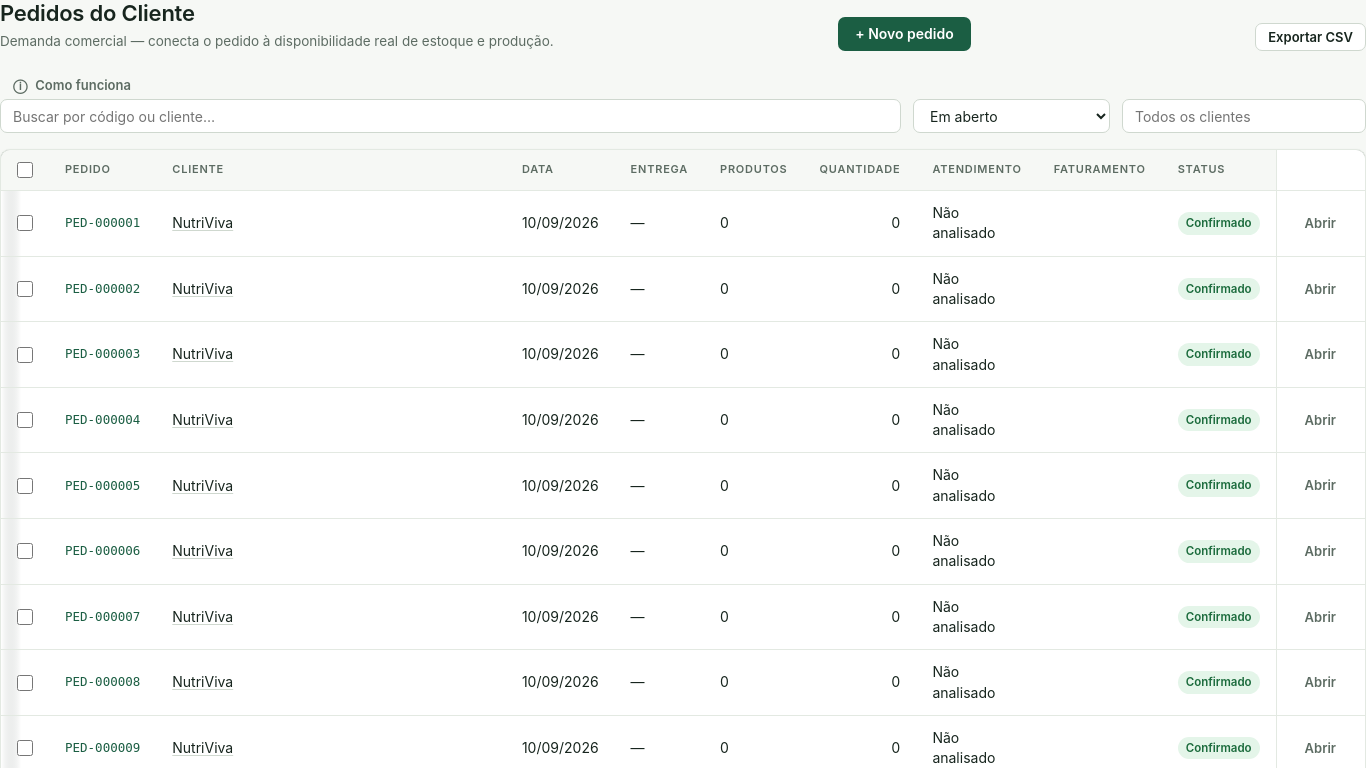
Test: página × todos os filtrados › desmarcar um pedido: 299, e a exceção leva o id estável
Click the checkbox named "Selecionar todos os registros desta página" at (25, 170), box x1=17 y1=162 x2=33 y2=178
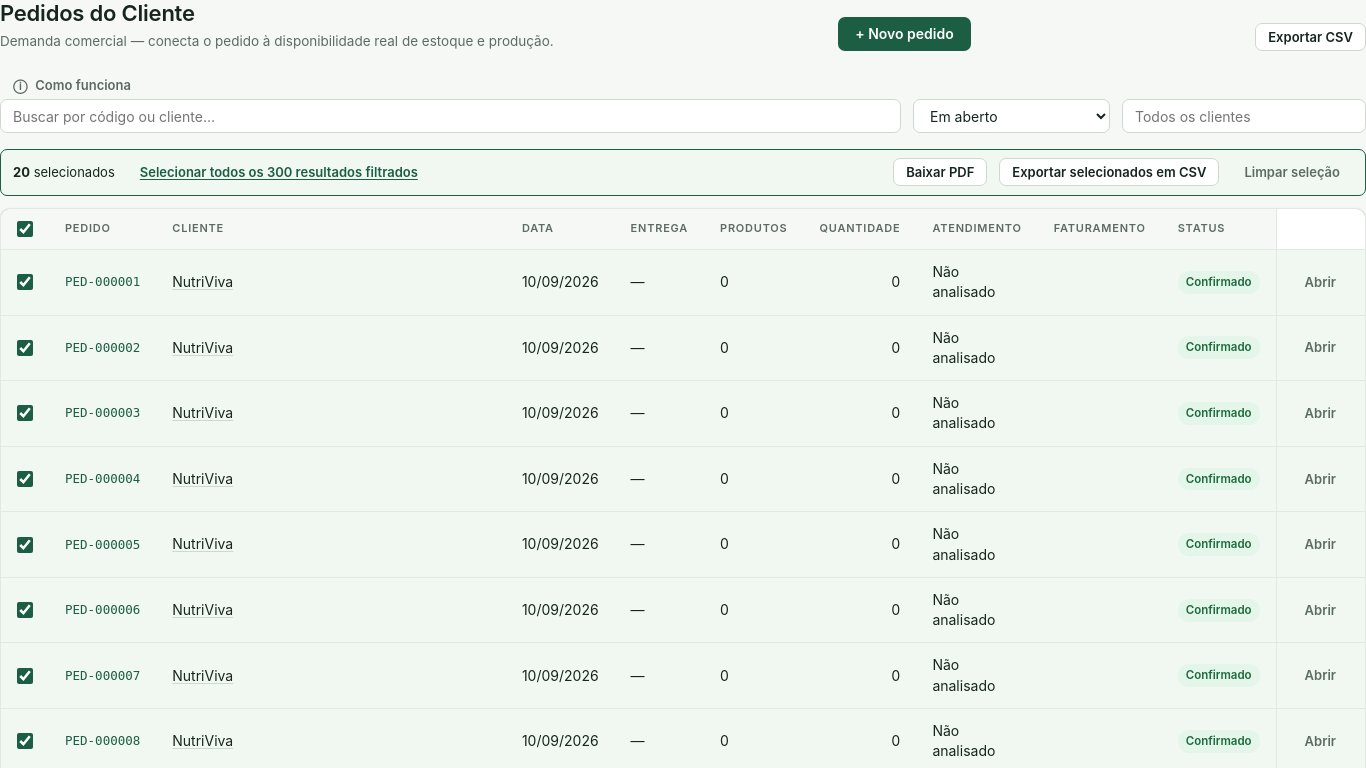
Click the button "Selecionar todos os 300 resultados filtrados" at (279, 172), box x1=127 y1=158 x2=431 y2=187
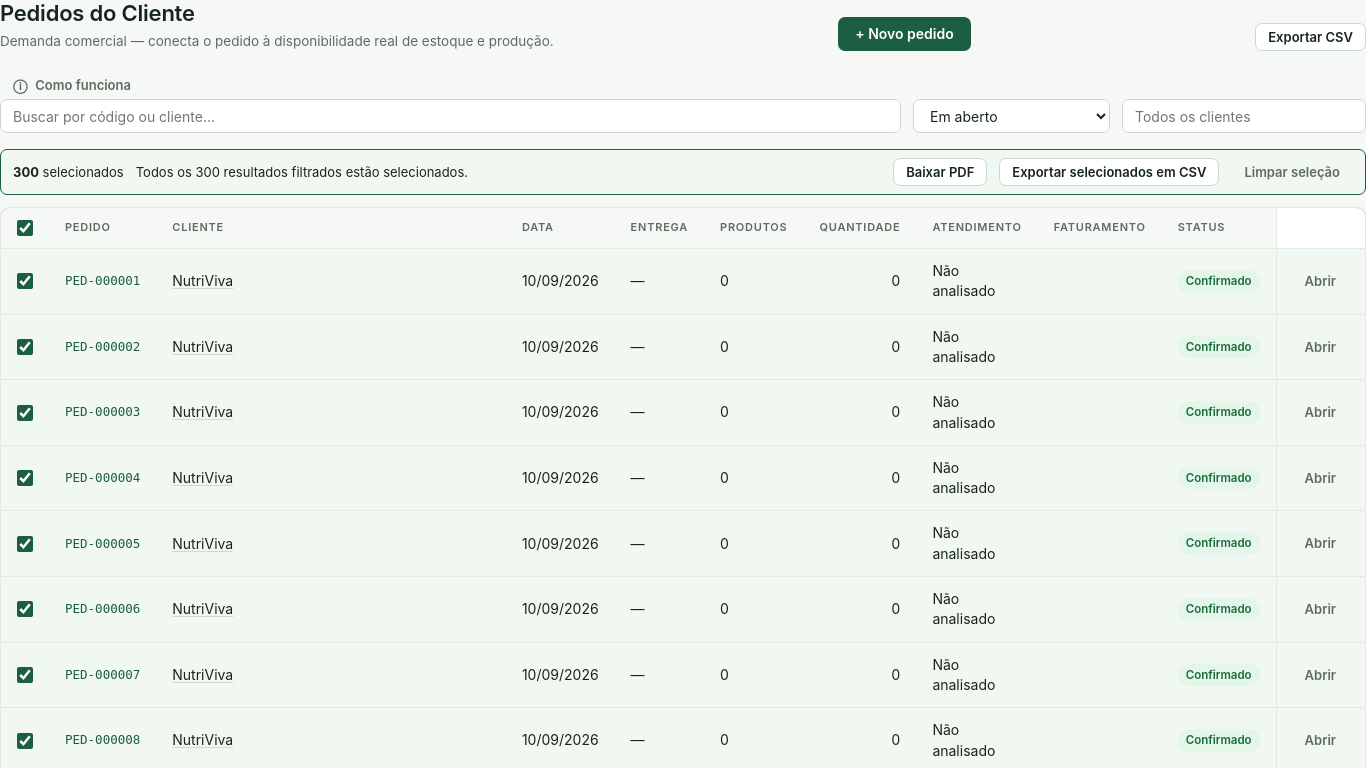
Click the checkbox named "Selecionar pedido PED-000003" at (25, 412), box x1=17 y1=404 x2=33 y2=420
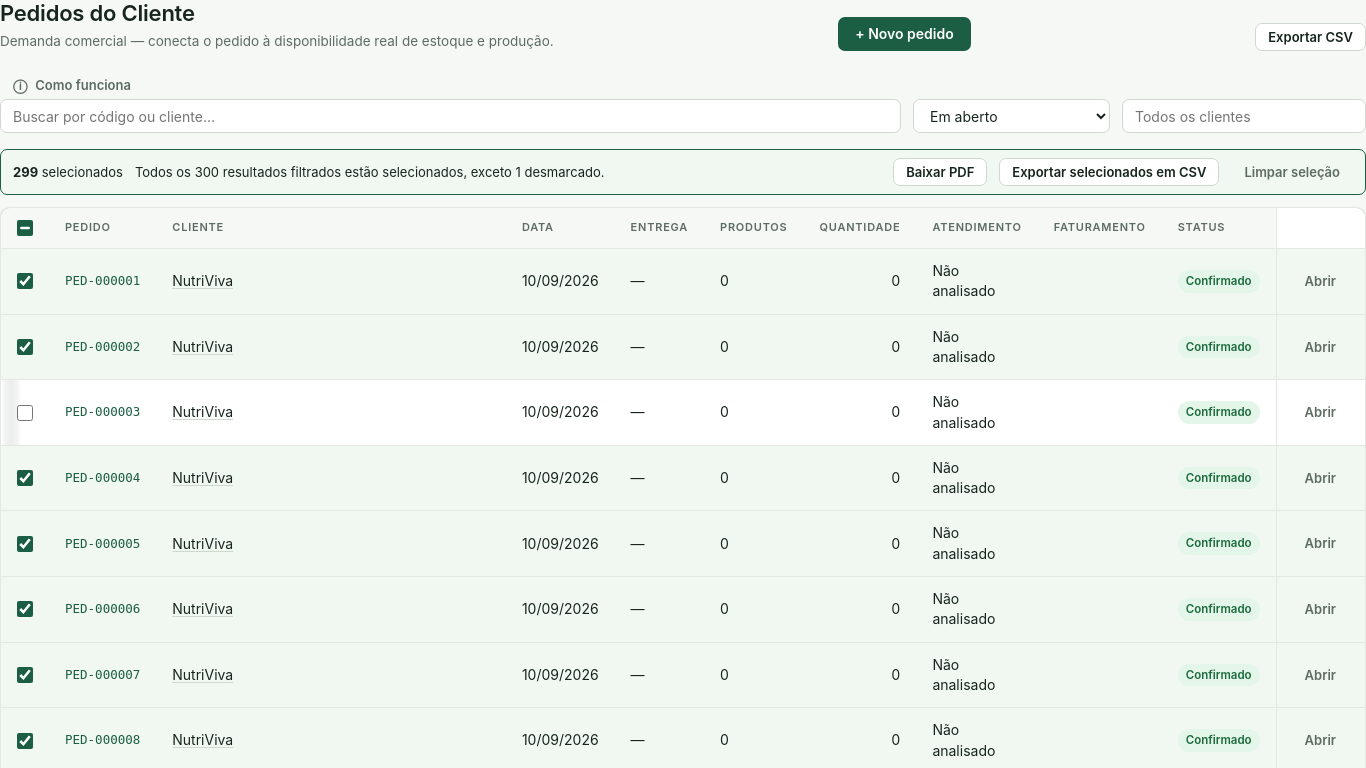
Now the element with class "bulk-bar__count" reads "299 selecionados", box x1=13 y1=163 x2=123 y2=181
